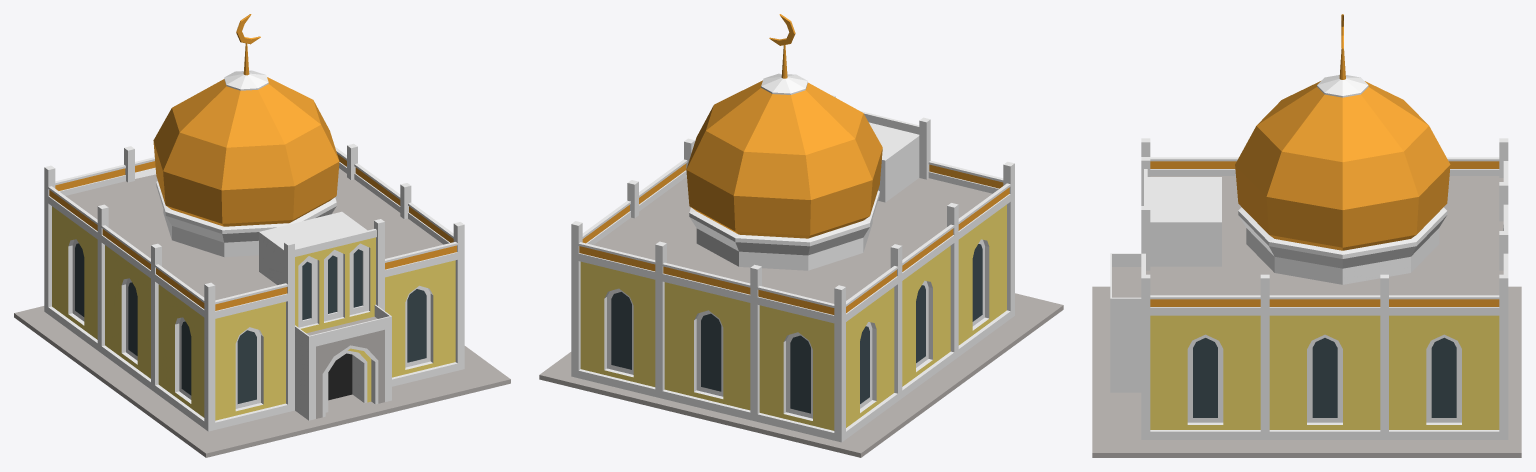
The model's file is buildings_mosque.fbx.
3 renders of one model, left to right at view 1: azimuth 30°, elevation 25°; view 2: azimuth 150°, elevation 25°; view 3: azimuth 270°, elevation 25°, orthographic. The views are drawn at different scales.
Parts seen in each view (by area): view 1: buildings_mosque; view 2: buildings_mosque; view 3: buildings_mosque.
Boxes of the visible parts, <box> form: buildings_mosque: <box>14,14,510,457</box>; buildings_mosque: <box>539,14,1063,457</box>; buildings_mosque: <box>1092,14,1521,457</box>.
Size of the model in its own units: 183 by 186 by 200.
